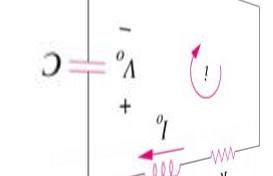resistor: (202, 139, 242, 165)
